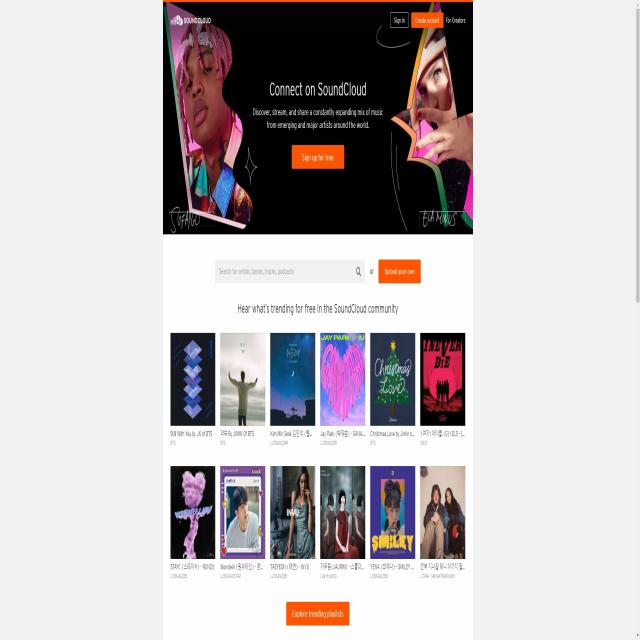menu-bar: (389, 10, 466, 31)
search: (214, 259, 366, 287)
